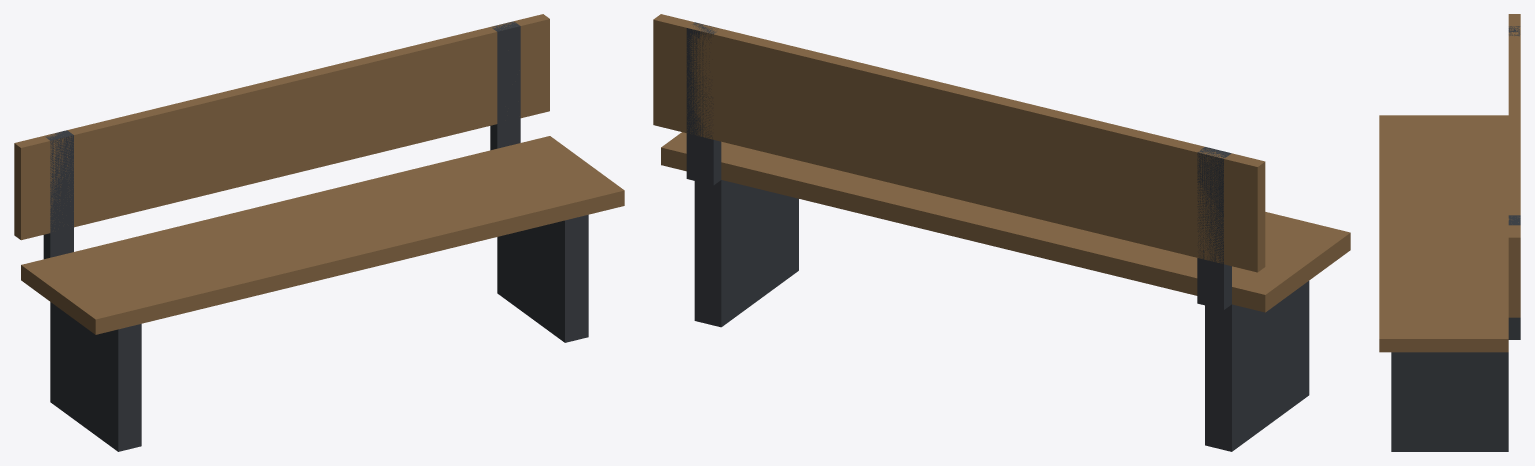
Rendered from bench.L1.1d038914.glb.
The picture shows the model from 3 angles, left to right: view 1: azimuth 30°, elevation 25°; view 2: azimuth 150°, elevation 25°; view 3: azimuth 270°, elevation 25°; orthographic projection. The views are drawn at different scales.
Visible parts, largest first — view 1: A-FURNITURE-BENCH; view 2: A-FURNITURE-BENCH; view 3: A-FURNITURE-BENCH.
Part boxes in pixels (<box>): A-FURNITURE-BENCH: <box>14,14,624,451</box>; A-FURNITURE-BENCH: <box>653,14,1350,451</box>; A-FURNITURE-BENCH: <box>1379,14,1520,451</box>.
Bounding box in the file's own units: 1.8 × 0.85 × 0.48.
